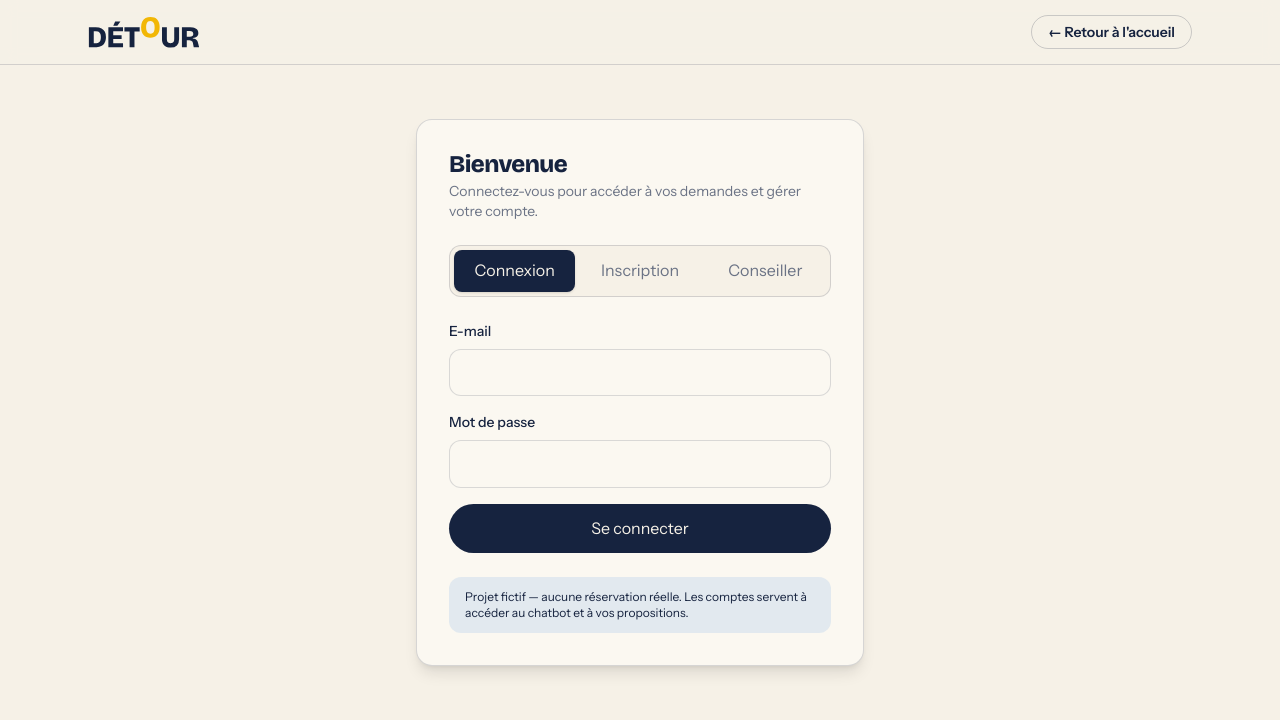
Test case: Login, advisor tab (#112) › refuses to log in without a first name
Click the tab "Conseiller": (765, 271) 705,250 -> 826,292
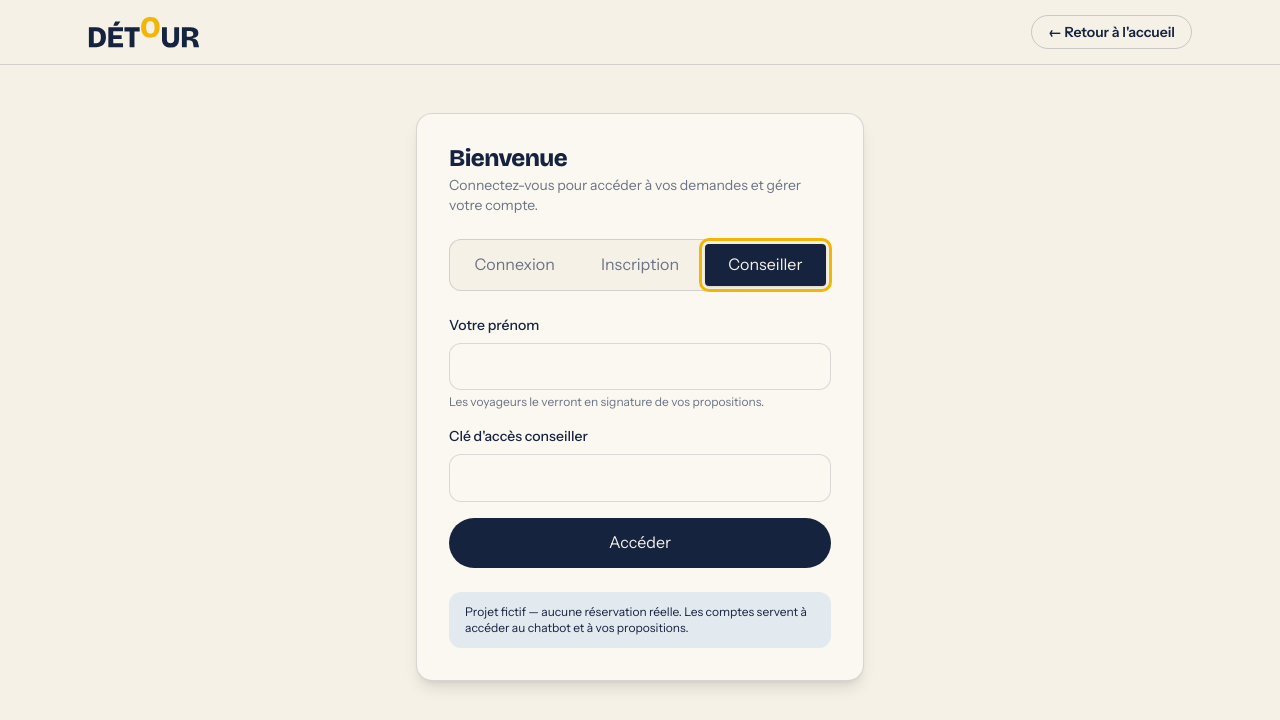
In the password field labelled "Clé d'accès conseiller": (640, 478) 449,454 -> 831,502, type "demo-key"
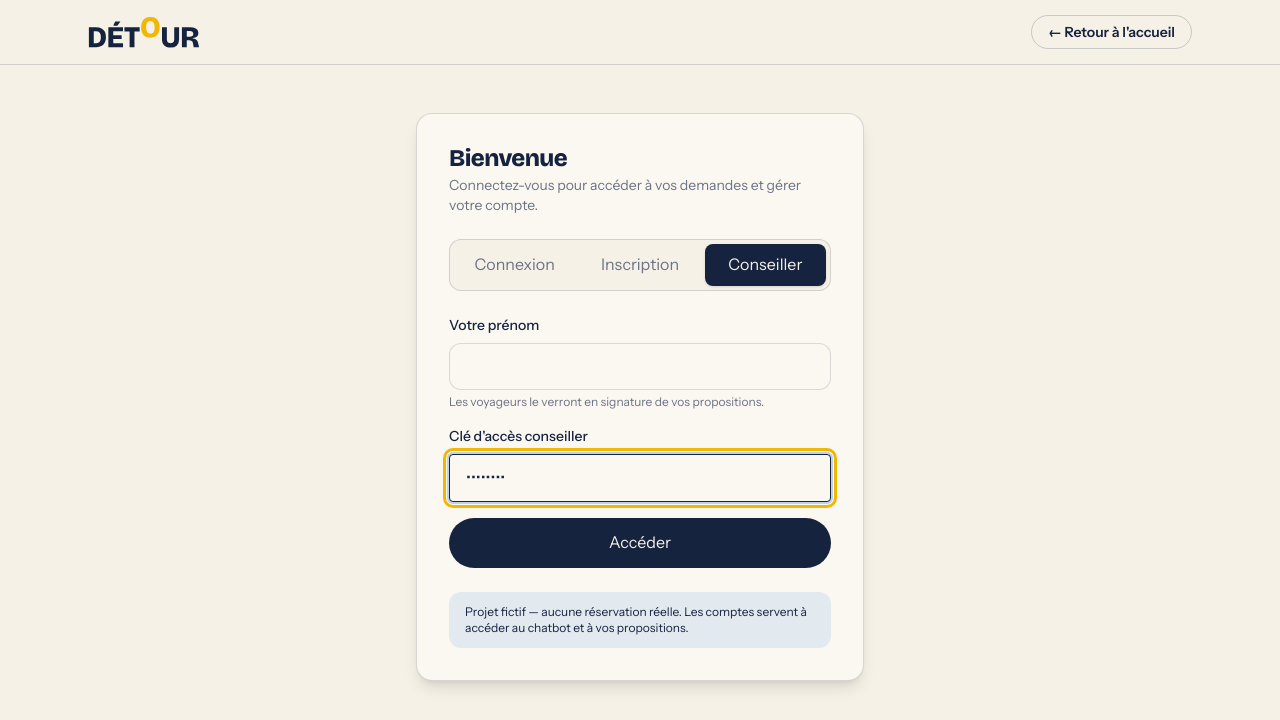
Click the button "Accéder": (640, 543) 449,518 -> 831,568
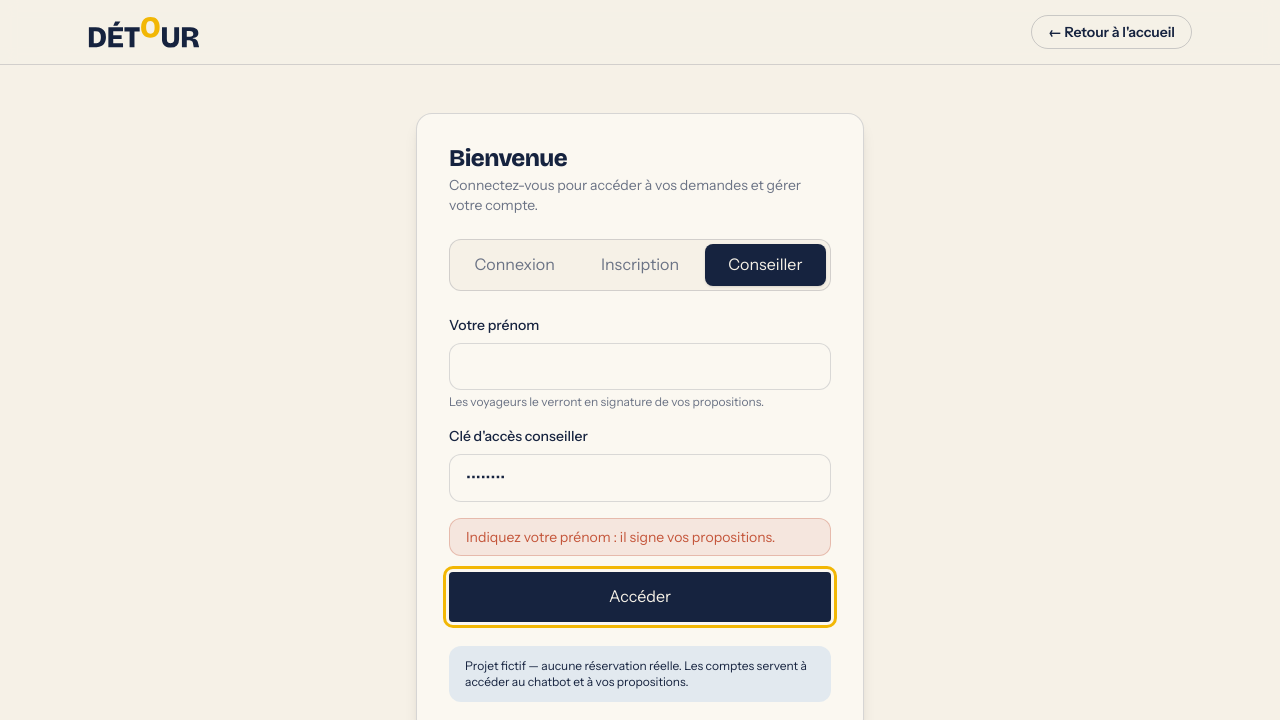
Now the message shows "Indiquez votre prénom", box 466,528 -> 775,546
